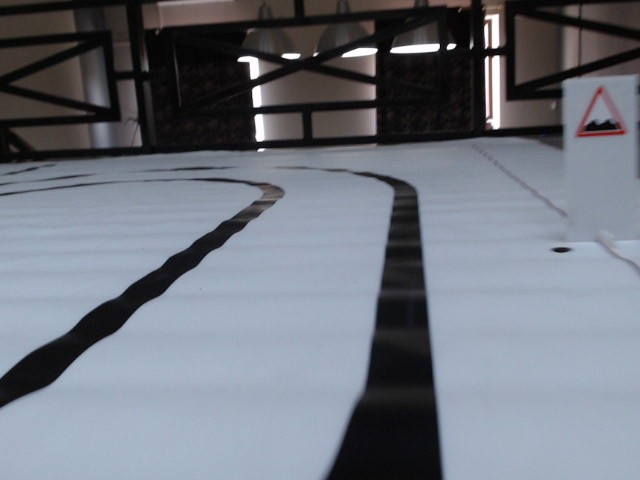Nerov: (576, 87, 630, 137)
